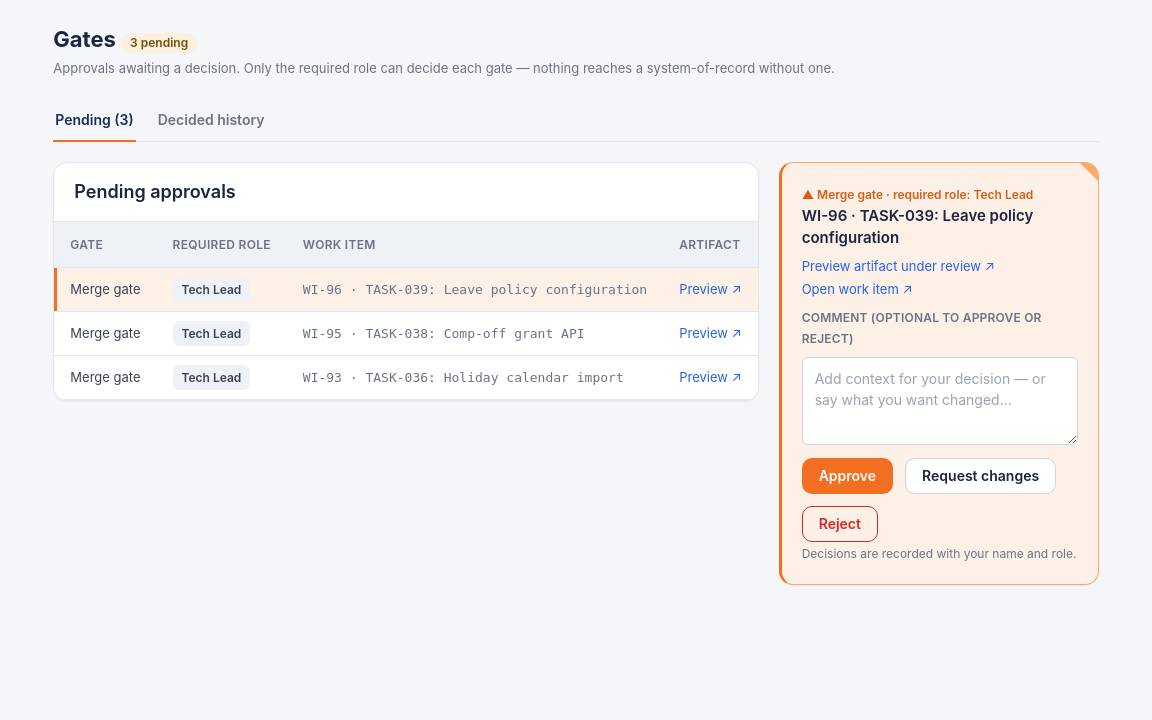
Test: the confirmation after a decision (S.No 250) › says a decision once, not three times
Click the button "Approve". click: (847, 476)
box: [802, 458, 893, 494]
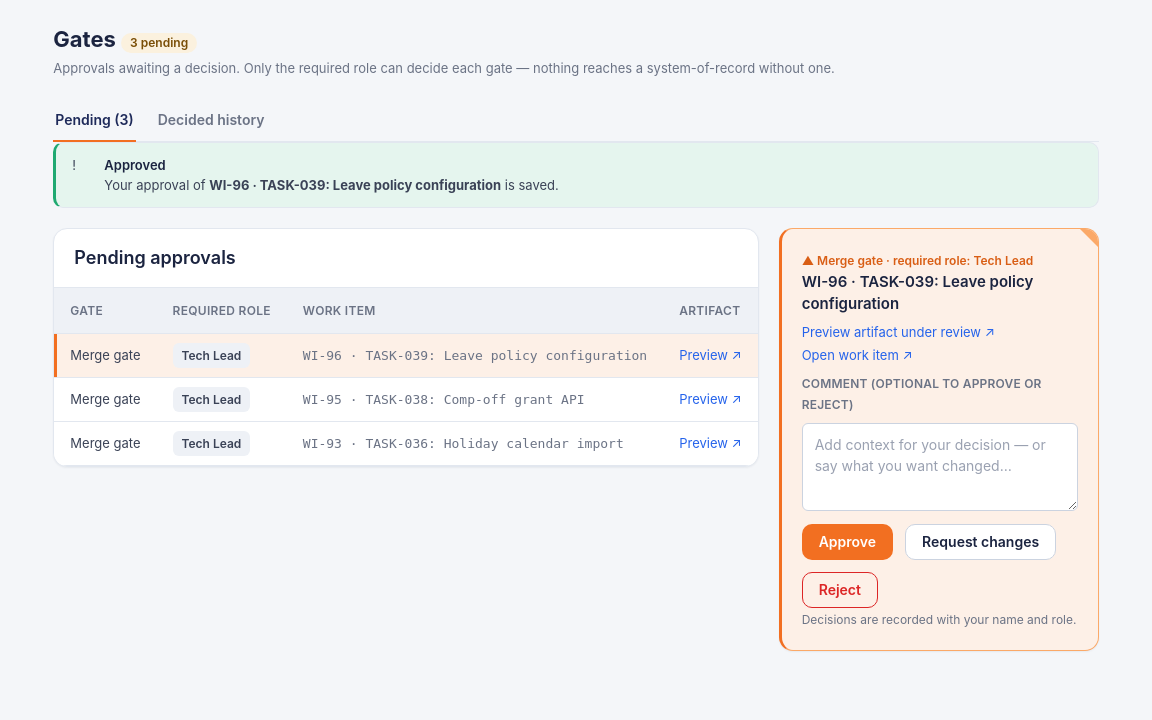
Now the text "Approved" is shown, box [104, 157, 166, 173]
Now the text "is saved" is shown once, box [104, 177, 559, 193]
